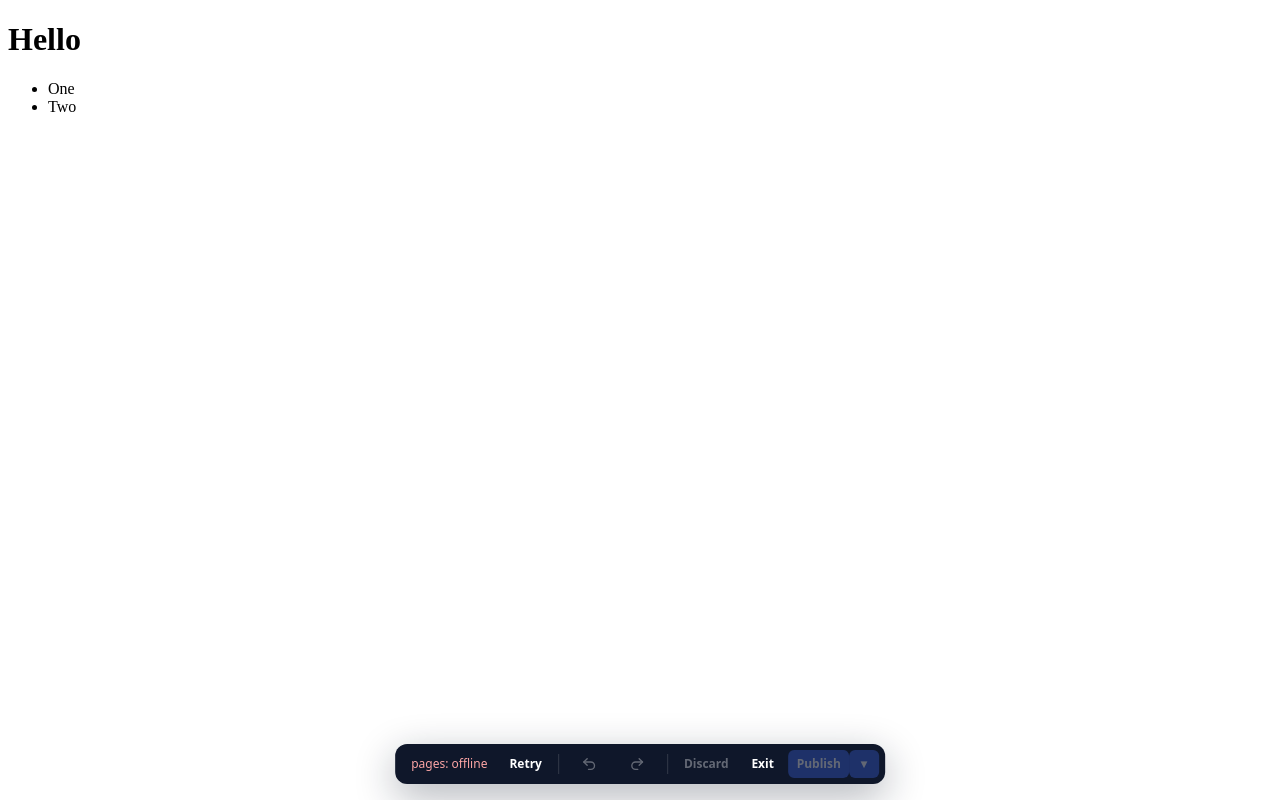
Test: OnPageEditor › reports a load failure with a retry
Check: the message with test id "onpage-status" shows "offline", box [411,755,488,772]
Click the button with test id "onpage-retry" at point(526, 764), box [501,750,550,778]
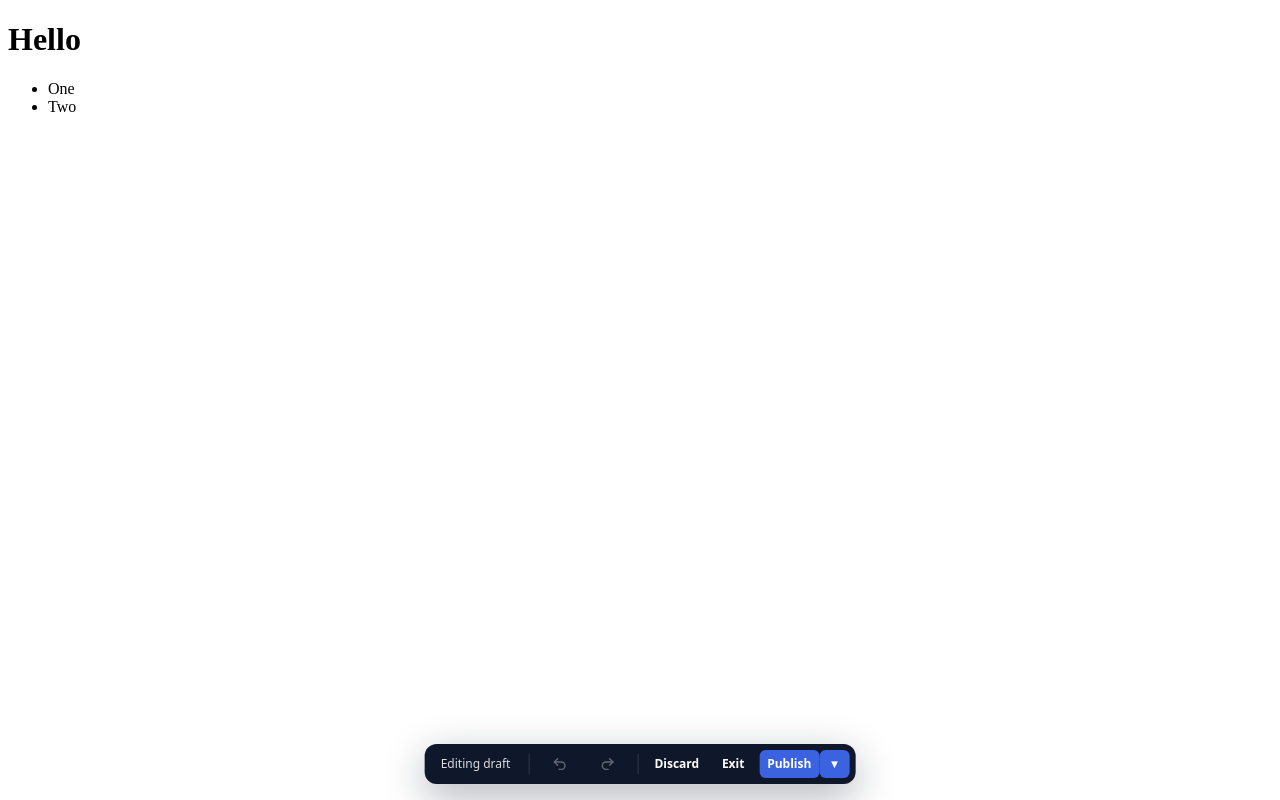
Check: the message with test id "onpage-status" reads "Editing draft", box [441,755,510,772]
